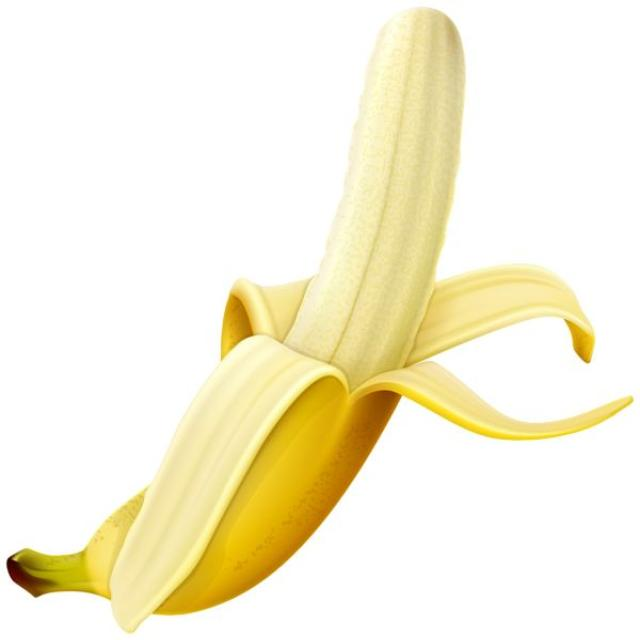banana: (8, 9, 630, 631)
